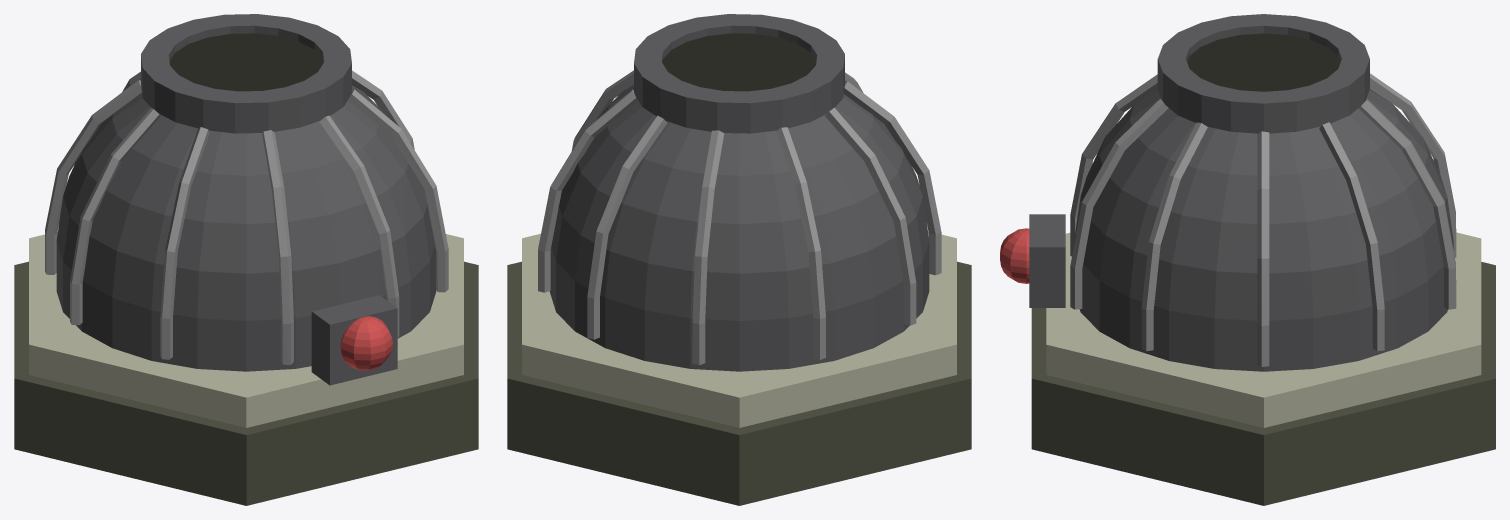
File: vge_mech_temp_shield.obj
3 renders of one model, left to right at view 1: azimuth 30°, elevation 25°; view 2: azimuth 150°, elevation 25°; view 3: azimuth 270°, elevation 25°, orthographic.
Visible parts, largest first — view 1: vge_mech_temp_shield_2, vge_mech_temp_shield_0, vge_mech_temp_shield_1, vge_mech_temp_shield_13, vge_mech_temp_shield_14, vge_mech_temp_shield_15, vge_mech_temp_shield_9, vge_mech_temp_shield_10, vge_mech_temp_shield_8, vge_mech_temp_shield_12, vge_mech_temp_shield_7, vge_mech_temp_shield_11 (+2 smaller); view 2: vge_mech_temp_shield_2, vge_mech_temp_shield_0, vge_mech_temp_shield_1, vge_mech_temp_shield_13, vge_mech_temp_shield_14, vge_mech_temp_shield_6, vge_mech_temp_shield_8, vge_mech_temp_shield_7, vge_mech_temp_shield_5, vge_mech_temp_shield_4, vge_mech_temp_shield_9, vge_mech_temp_shield_3; view 3: vge_mech_temp_shield_2, vge_mech_temp_shield_0, vge_mech_temp_shield_1, vge_mech_temp_shield_13, vge_mech_temp_shield_14, vge_mech_temp_shield_15, vge_mech_temp_shield_3, vge_mech_temp_shield_12, vge_mech_temp_shield_11, vge_mech_temp_shield_4, vge_mech_temp_shield_5, vge_mech_temp_shield_10 (+2 smaller).
Boxes of the visible parts, bbox=[...] form: vge_mech_temp_shield_2: bbox=[56, 85, 436, 371]; vge_mech_temp_shield_0: bbox=[14, 261, 478, 505]; vge_mech_temp_shield_1: bbox=[29, 231, 463, 427]; vge_mech_temp_shield_13: bbox=[141, 14, 351, 133]; vge_mech_temp_shield_14: bbox=[169, 33, 323, 91]; vge_mech_temp_shield_15: bbox=[311, 295, 397, 385]; vge_mech_temp_shield_9: bbox=[160, 127, 209, 359]; vge_mech_temp_shield_10: bbox=[262, 130, 293, 364]; vge_mech_temp_shield_8: bbox=[70, 107, 160, 325]; vge_mech_temp_shield_12: bbox=[348, 89, 448, 292]; vge_mech_temp_shield_7: bbox=[45, 80, 141, 274]; vge_mech_temp_shield_11: bbox=[319, 115, 399, 337]; vge_mech_temp_shield_2: bbox=[549, 85, 929, 371]; vge_mech_temp_shield_0: bbox=[507, 261, 971, 505]; vge_mech_temp_shield_1: bbox=[522, 231, 956, 427]; vge_mech_temp_shield_13: bbox=[634, 14, 844, 133]; vge_mech_temp_shield_14: bbox=[662, 33, 816, 91]; vge_mech_temp_shield_6: bbox=[692, 130, 724, 365]; vge_mech_temp_shield_8: bbox=[825, 107, 916, 325]; vge_mech_temp_shield_7: bbox=[775, 127, 825, 359]; vge_mech_temp_shield_5: bbox=[587, 115, 667, 339]; vge_mech_temp_shield_4: bbox=[538, 89, 638, 292]; vge_mech_temp_shield_9: bbox=[844, 80, 941, 275]; vge_mech_temp_shield_3: bbox=[572, 70, 633, 150]; vge_mech_temp_shield_2: bbox=[1074, 88, 1453, 371]; vge_mech_temp_shield_0: bbox=[1031, 262, 1495, 505]; vge_mech_temp_shield_1: bbox=[1046, 232, 1481, 427]; vge_mech_temp_shield_13: bbox=[1157, 14, 1369, 133]; vge_mech_temp_shield_14: bbox=[1187, 33, 1340, 91]; vge_mech_temp_shield_15: bbox=[1029, 214, 1065, 307]; vge_mech_temp_shield_3: bbox=[1257, 131, 1269, 366]; vge_mech_temp_shield_12: bbox=[1141, 122, 1207, 351]; vge_mech_temp_shield_11: bbox=[1070, 99, 1168, 309]; vge_mech_temp_shield_4: bbox=[1319, 122, 1384, 351]; vge_mech_temp_shield_5: bbox=[1358, 99, 1456, 309]; vge_mech_temp_shield_10: bbox=[1070, 74, 1157, 256].
Bounding box in the file's own units: 0.96 × 0.66 × 0.8883.
